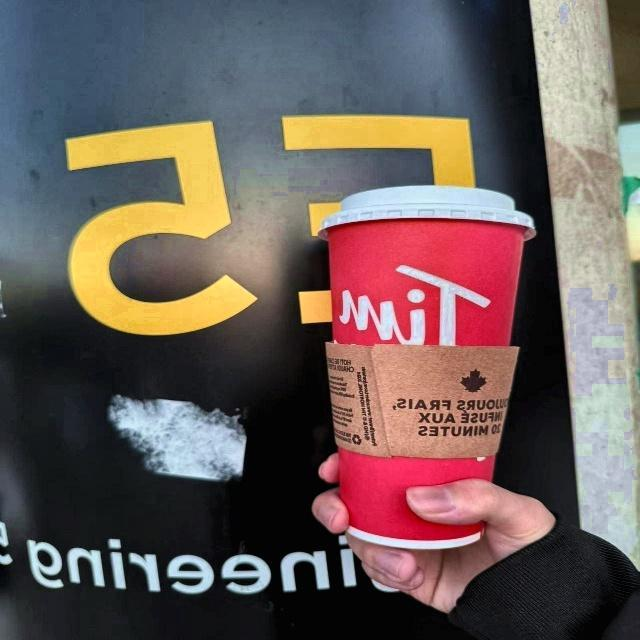timmies: (282, 180, 554, 554)
